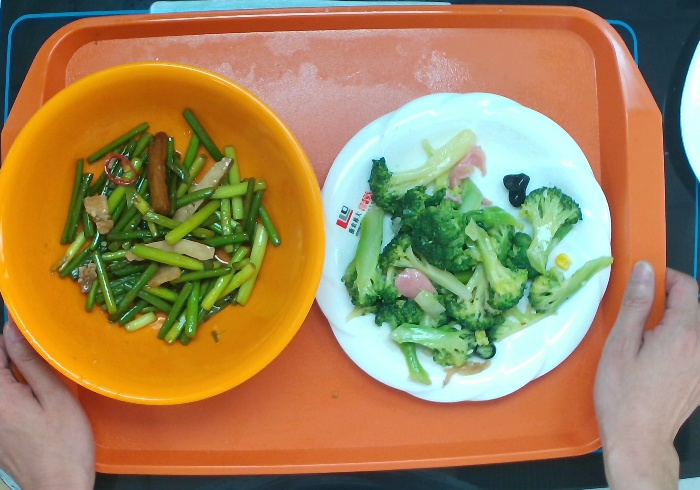ZNLD-Hua_Bian_Wan: (313, 85, 631, 409)
ZNLD-Ju_Se_Tang_Wan: (1, 59, 326, 403)
